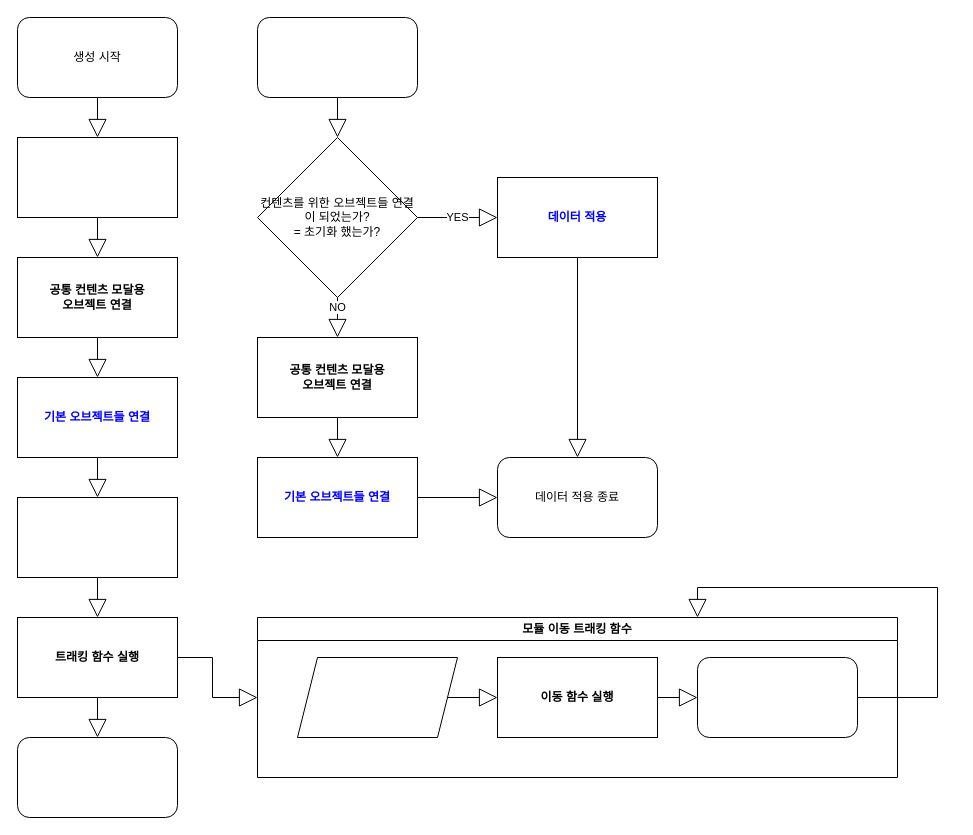
The diagram is 973 pixels wide and 835 high, and some of its shapes have lost their labels. Each missing label, with the centre of its shape:
"[SerializeField] 입력값 기반 사이즈 초기화" goes at (97,177).
"데이터 적용 시작" goes at (337,57).
"드래그: 헤더" goes at (377,697).
"생성 종료" goes at (97,777).
"이동 로직 종료" goes at (777,697).
"토글 함수 실행 = 숨기기" goes at (97,537).
